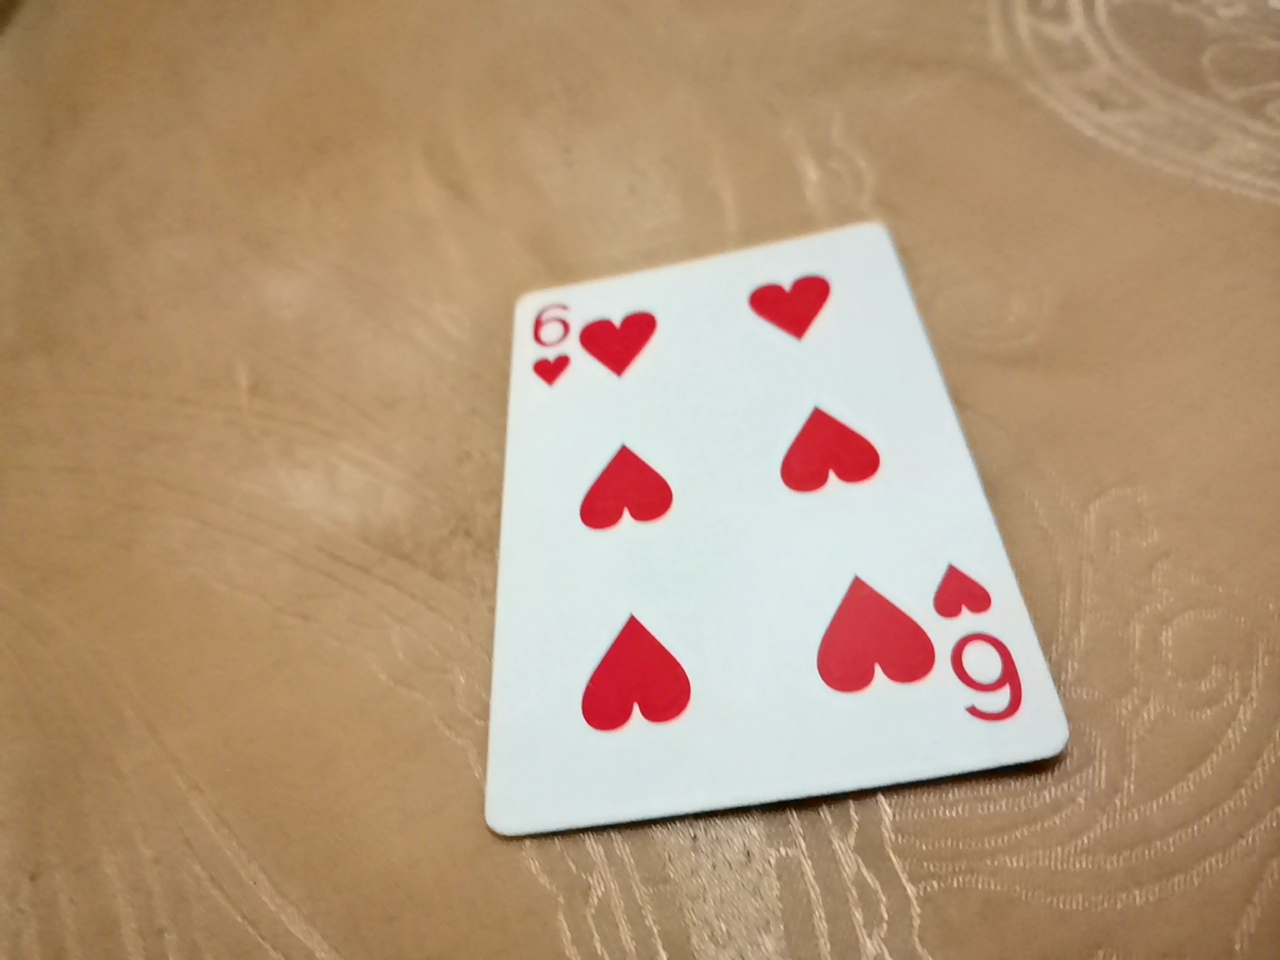hx 6: (543, 58, 1117, 668)
